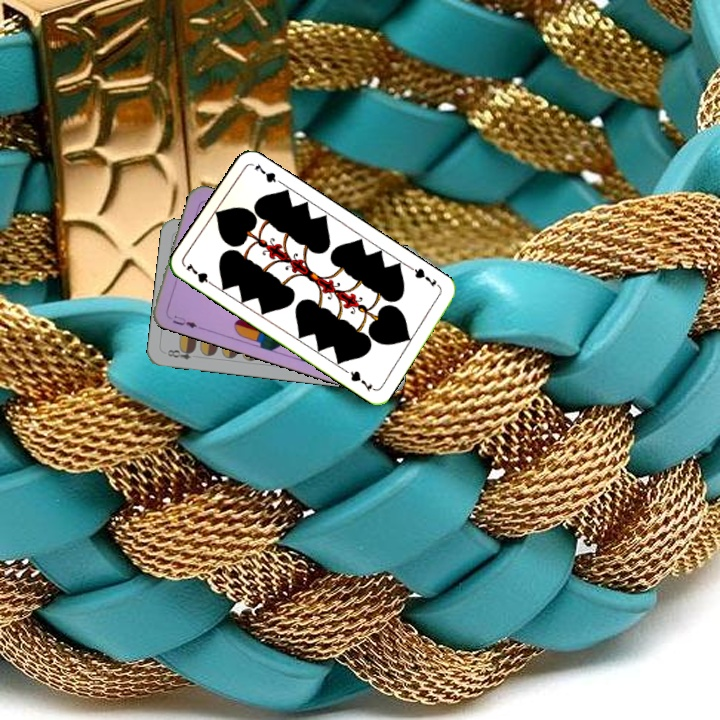E8: (161, 344, 197, 362)
EU: (164, 311, 199, 331)
G7: (182, 259, 218, 290), (406, 263, 440, 290)
